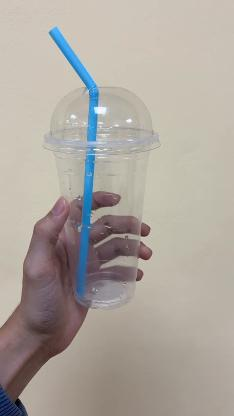Plastic Cup: (42, 86, 168, 308)
